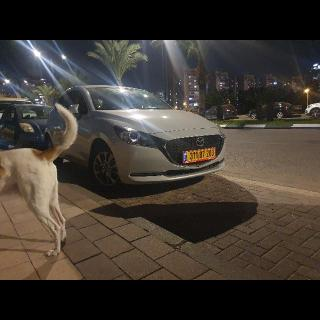LicensePlate: (186, 148, 216, 161)
